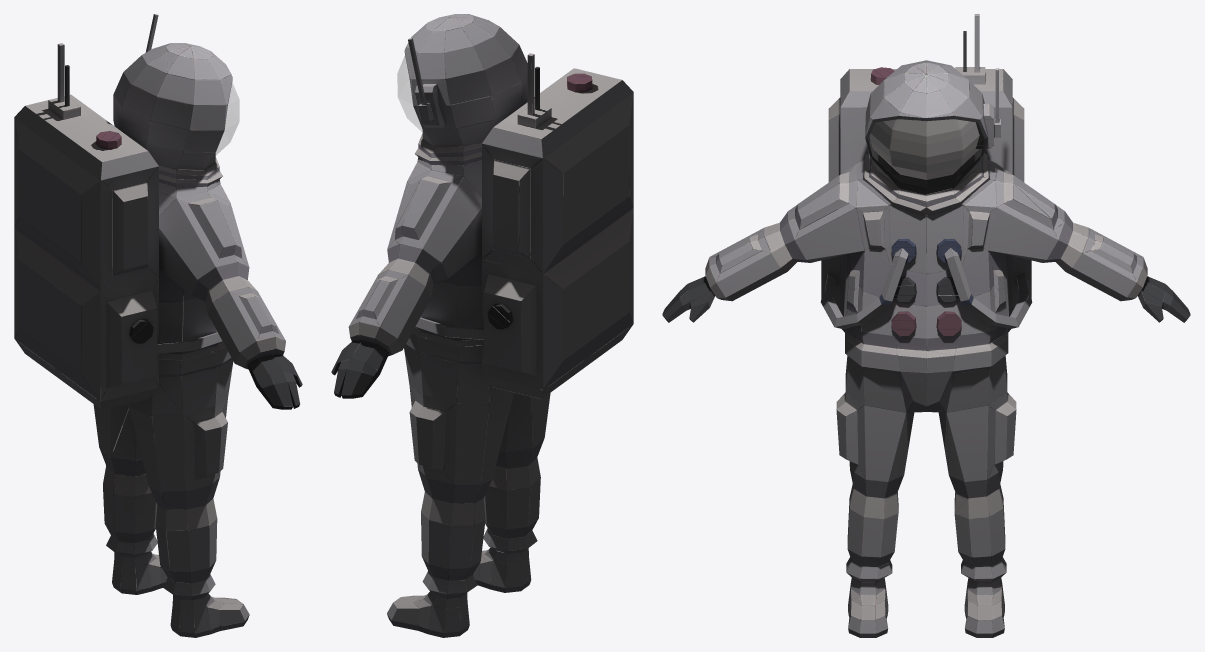
File: astronaut.glb
The picture shows the model from 3 angles, left to right: view 1: azimuth 30°, elevation 25°; view 2: azimuth 150°, elevation 25°; view 3: azimuth 270°, elevation 25°; orthographic projection. The views are drawn at different scales.
Visible parts, largest first — view 1: Suit, Glass; view 2: Suit, Glass; view 3: Suit, Glass, Helmet.
Boxes of the visible parts, box(x1,y1,x2,y2) form: Suit: box(14, 14, 302, 637); Glass: box(216, 83, 239, 154); Suit: box(331, 14, 633, 637); Glass: box(397, 56, 422, 131); Suit: box(662, 14, 1190, 637); Glass: box(869, 120, 983, 187); Helmet: box(869, 119, 979, 179).
Bounding box in the file's own units: 0.7495 × 2.22 × 1.89.
3 materials, 1 textured.
